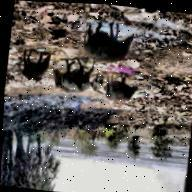boar: (81, 18, 136, 66), (48, 51, 99, 98), (99, 68, 147, 107), (16, 45, 56, 88)
